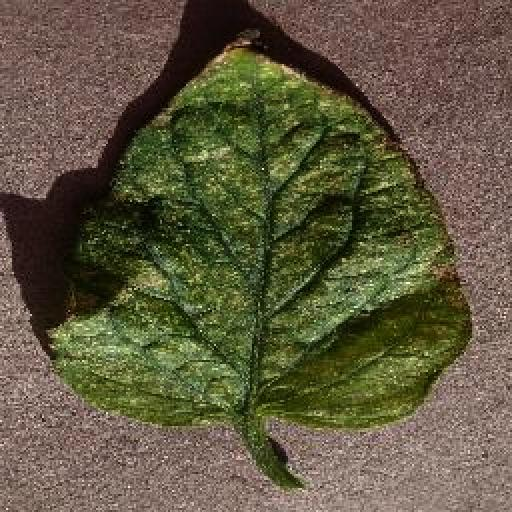disease_tomato: (43, 34, 471, 432)
